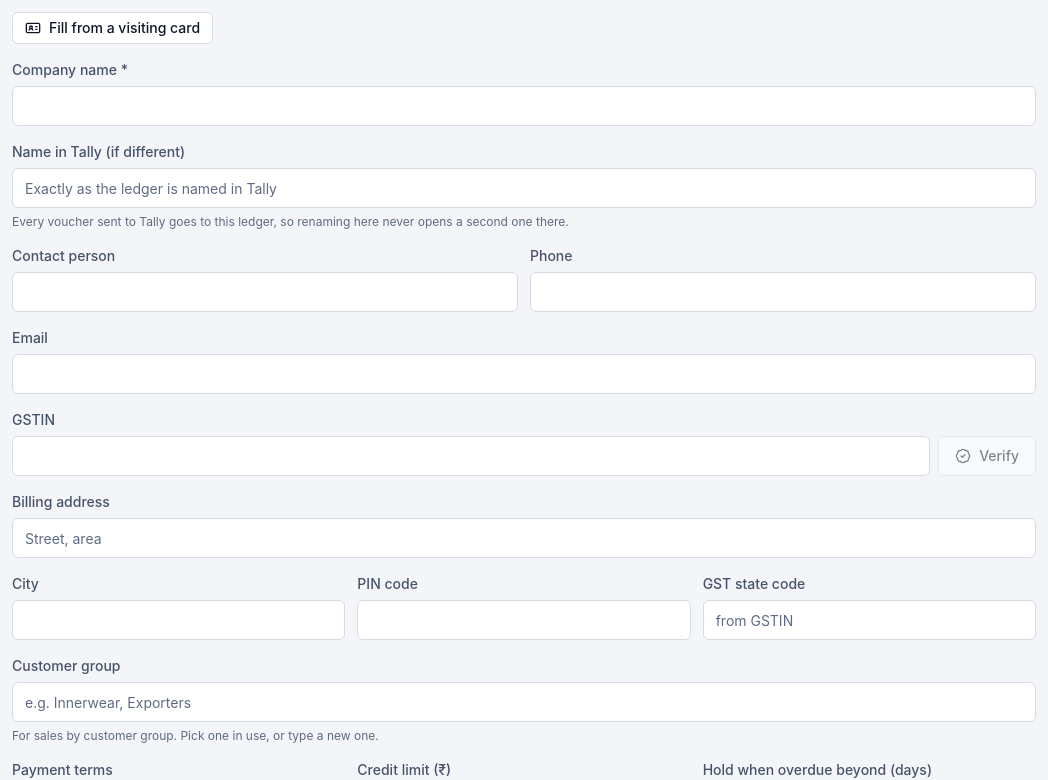
Test: Verify on the customer form › is a small button beside the GSTIN, there once a whole GSTIN is typed
Expected: the button "Verify" is disabled, x1=938 y1=436 x2=1036 y2=476
In the field labelled "GSTIN": (471, 456) x1=12 y1=436 x2=930 y2=476, type "33AAECB1234F"
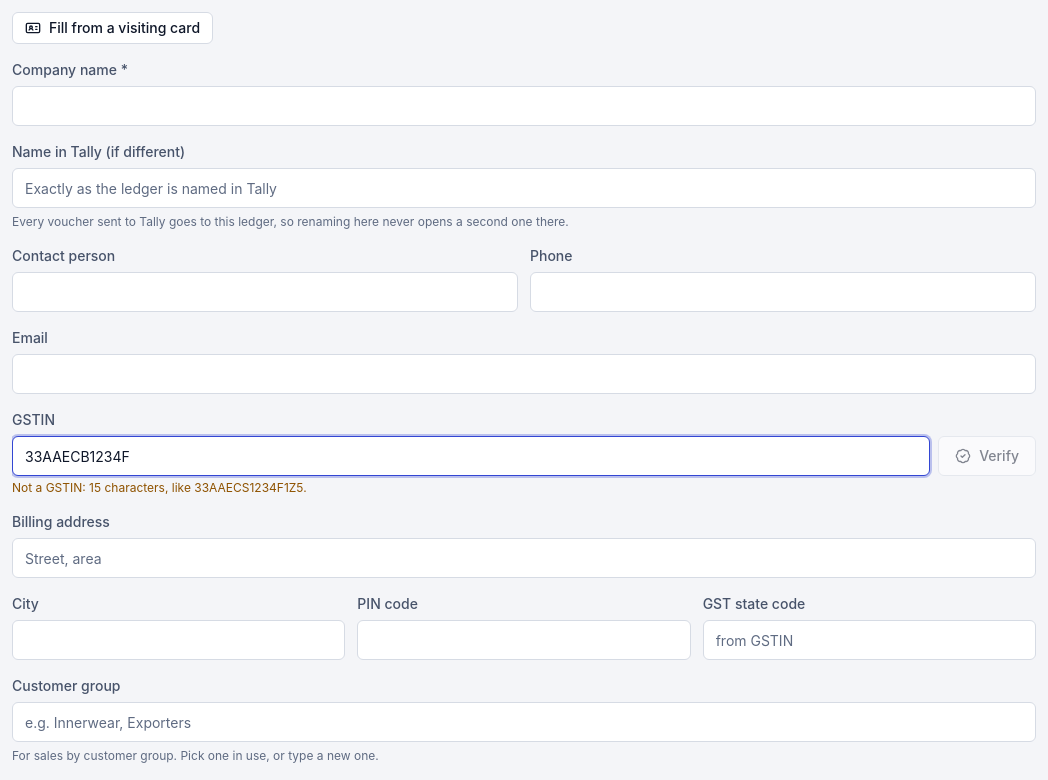
Expected: the button "Verify" is disabled, x1=938 y1=436 x2=1036 y2=476
In the field labelled "GSTIN": (471, 456) x1=12 y1=436 x2=930 y2=476, type "1ZC"
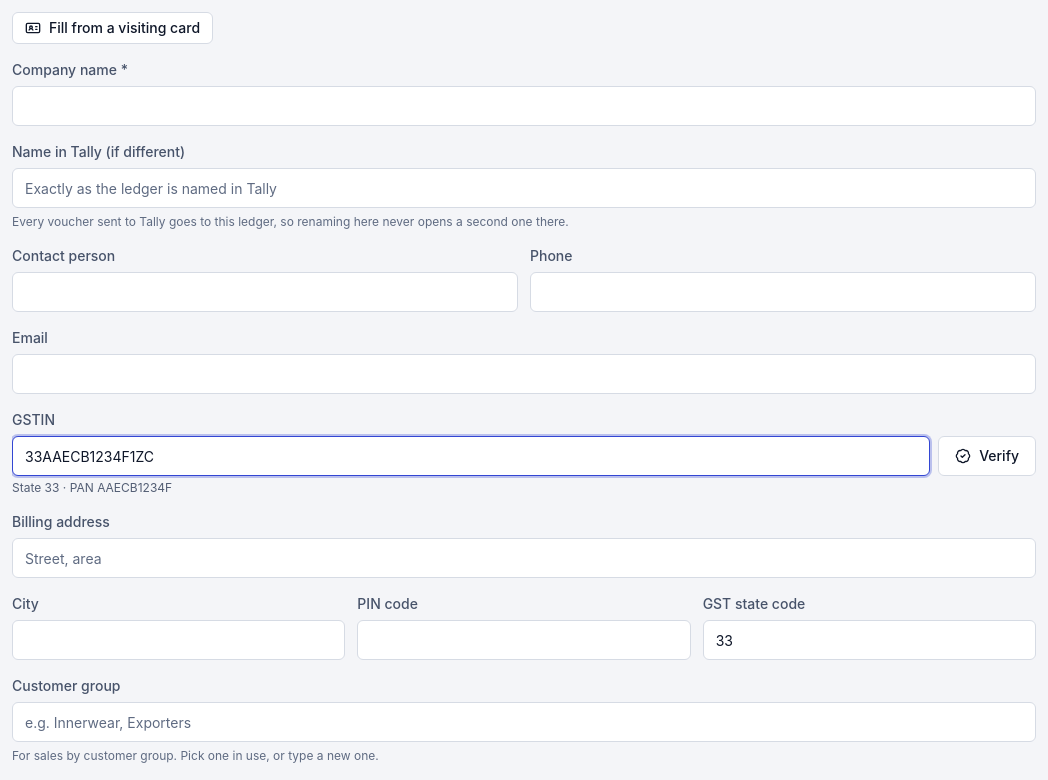
Expected: the button "Verify" is enabled, x1=938 y1=436 x2=1036 y2=476
